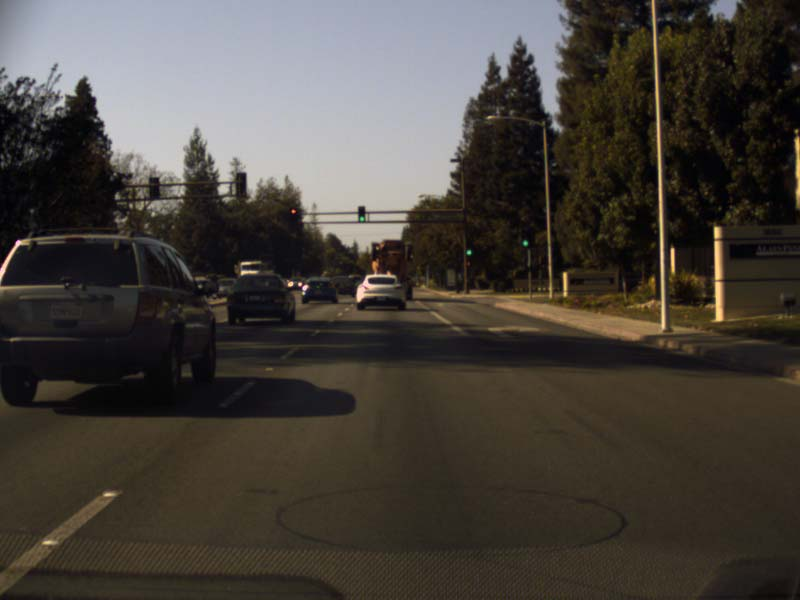Green: (520, 229, 529, 247), (466, 241, 474, 259), (357, 205, 365, 222)
Yellow: (288, 205, 300, 222)
